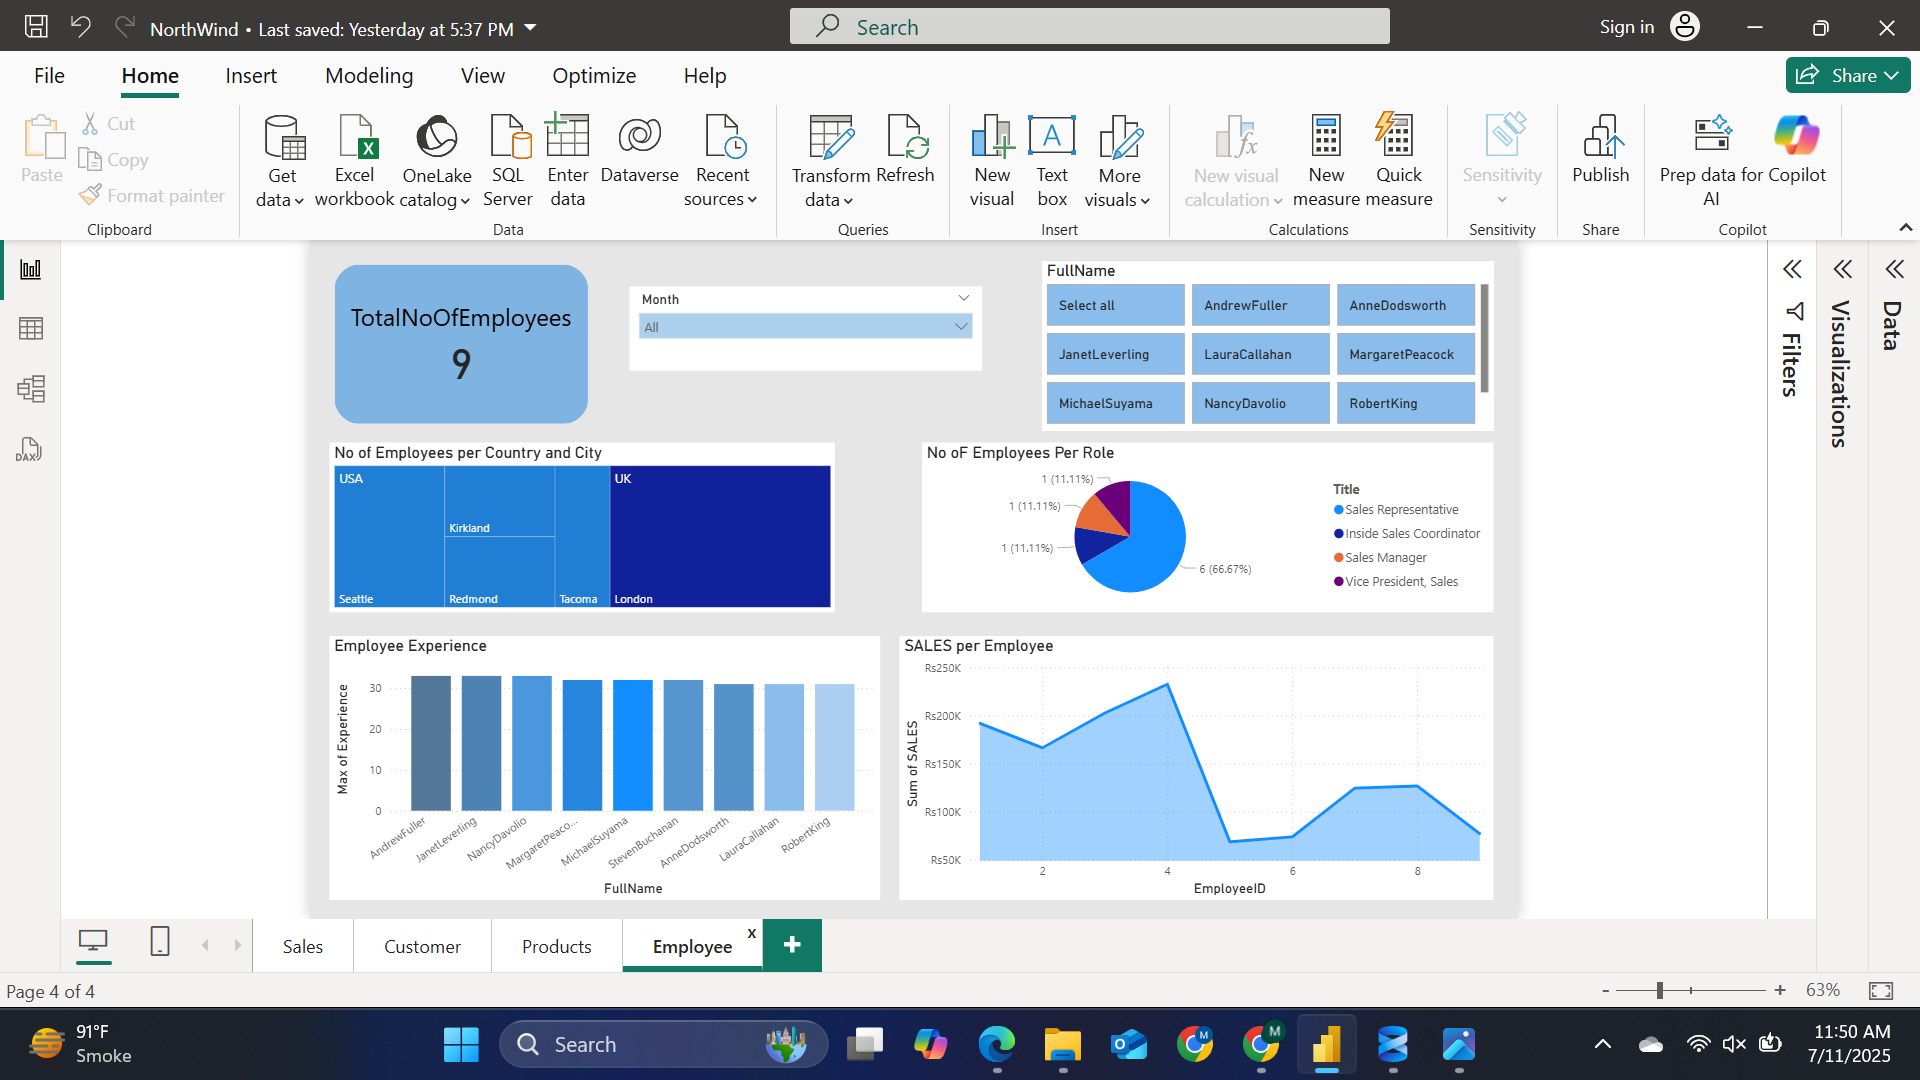

The dashboard page shown, as its layout file describes it:
{"tool":"powerbi","page":{"name":"Employee","canvas":[1280,720],"ordinal":3},"visuals":[{"type":"columnChart","title":"Employee Experience","fields":{"Y":["DimEmployees.Experience"],"Category":["DimEmployees.FullName"]},"box":[20.7,419.9,583.8,279.9],"z":0},{"type":"cardVisual","title":"TotalSales","fields":{"Data":["DimEmployees.TotalNoOfEmployees"]},"box":[20.8,20.8,279.7,179.5],"z":1000},{"type":"advancedSlicerVisual","fields":{"Values":["DimEmployees.FullName"]},"box":[776.2,22.3,478.8,179.7],"z":2000},{"type":"treemap","title":"No of Employees per Country and City","fields":{"Group":["DimEmployees.Country"],"Values":["DimEmployees.EmployeeID"],"Details":["DimEmployees.City"]},"box":[20.7,214.7,536,179.7],"z":3000},{"type":"areaChart","title":"SALES per Employee","fields":{"Y":["fact_orders.SALES"],"Category":["DimEmployees.EmployeeID"]},"box":[625.1,419.9,629.9,279.9],"z":4000},{"type":"slicer","fields":{"Values":["fact_orders.OrderDate.Variation.Date Hierarchy.Month"]},"box":[338.8,49.3,373.8,89.1],"z":5000},{"type":"pieChart","title":"No oF Employees Per Role","fields":{"Category":["DimEmployees.Title"],"Y":["DimEmployees.EmployeeID"]},"box":[649,214.7,606,179.7],"z":6000}]}

Visuals, with their boxes on the page's 1280x720 design canvas (x1, y1, x2, y2). These are canvas units, not pixel positions in the 1920x1080 screenshot, which may show the page scaled, cropped or inside an application window:
"Employee Experience" columnChart: Rect(21, 420, 604, 700)
"TotalSales" cardVisual: Rect(21, 21, 300, 200)
advancedSlicerVisual - DimEmployees.FullName: Rect(776, 22, 1255, 202)
"No of Employees per Country and City" treemap: Rect(21, 215, 557, 394)
"SALES per Employee" areaChart: Rect(625, 420, 1255, 700)
slicer - fact_orders.OrderDate.Variation.Date Hierarchy.Month: Rect(339, 49, 713, 138)
"No oF Employees Per Role" pieChart: Rect(649, 215, 1255, 394)
